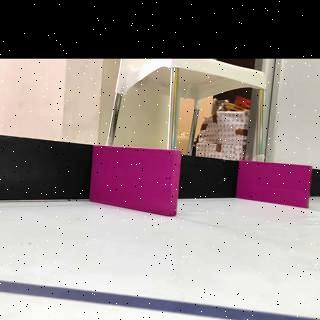xparking: (96, 151, 178, 213), (242, 165, 310, 207)
